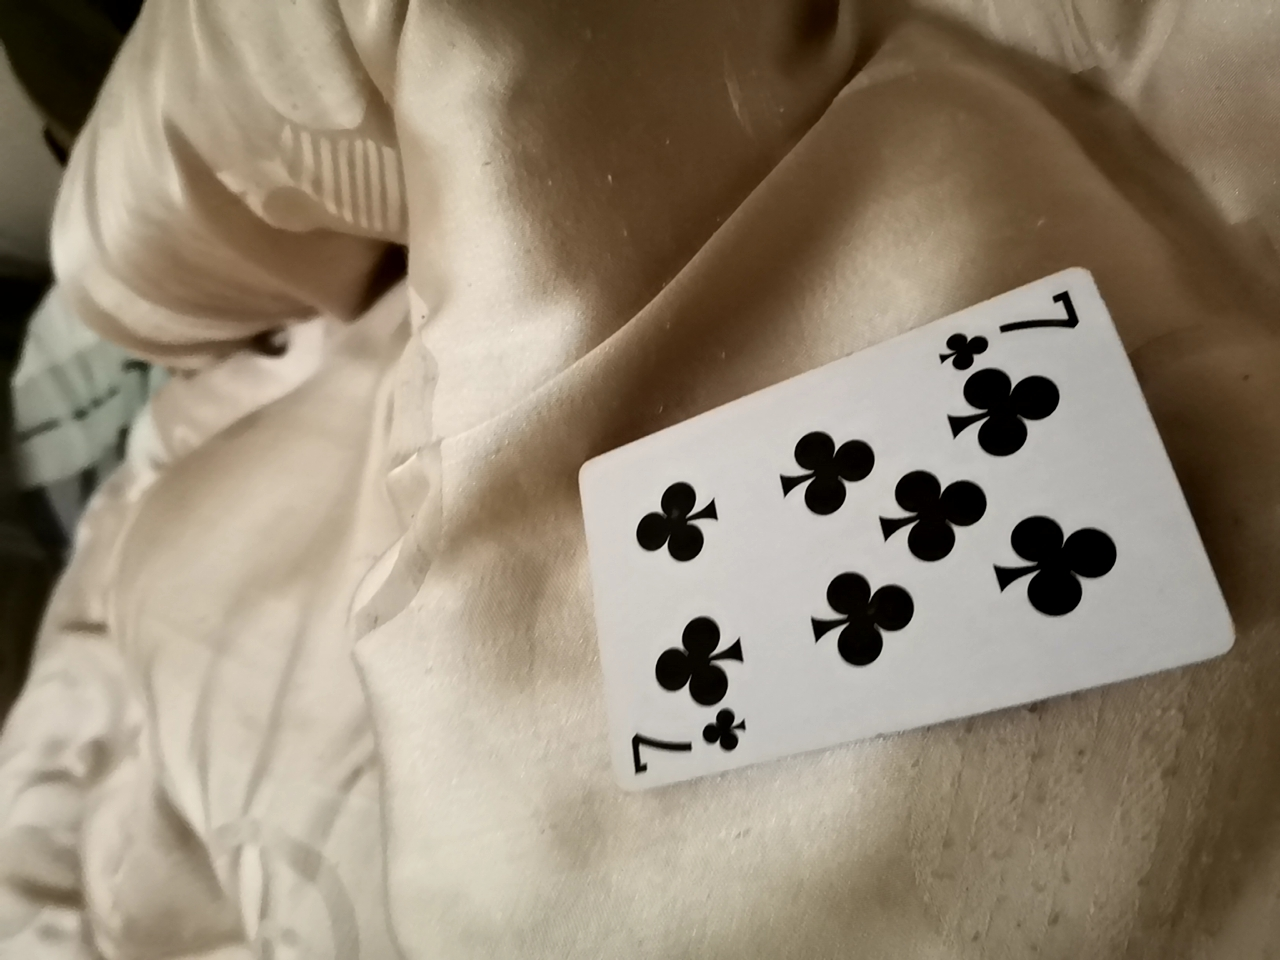mh 7: (548, 258, 1253, 811)
